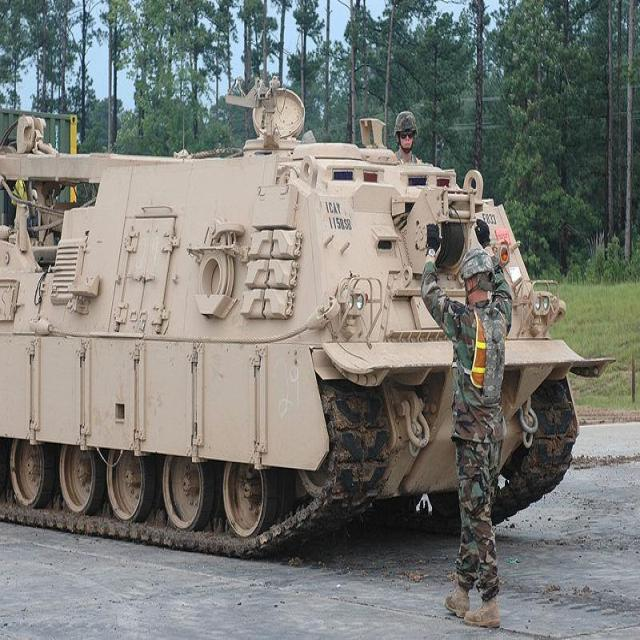Tanks: (7, 81, 586, 578)
